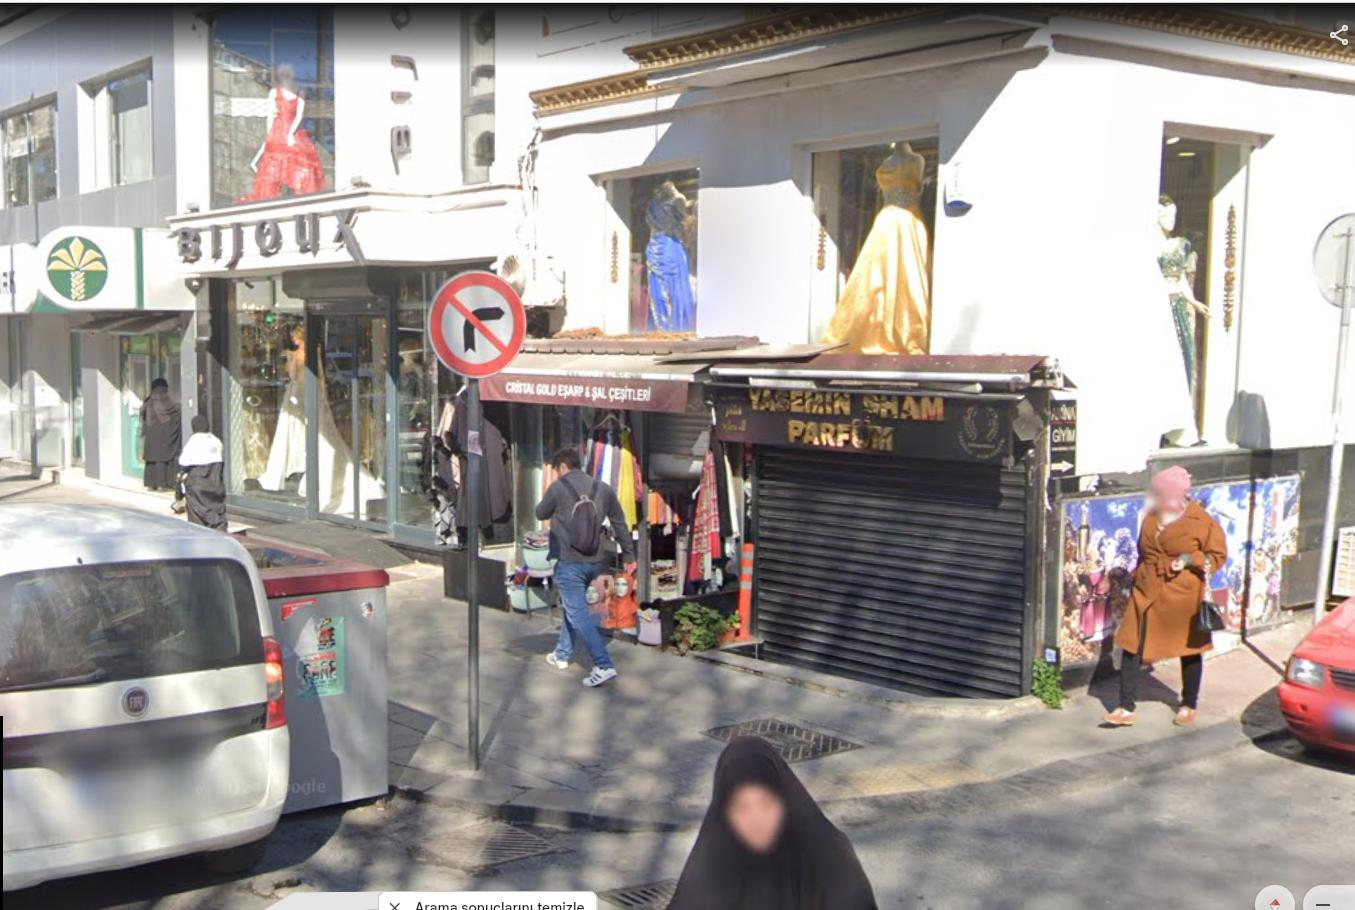rightturnsareforbidden: (428, 273, 528, 376)
